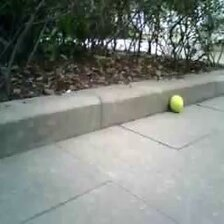tennis: (170, 95, 183, 111)
